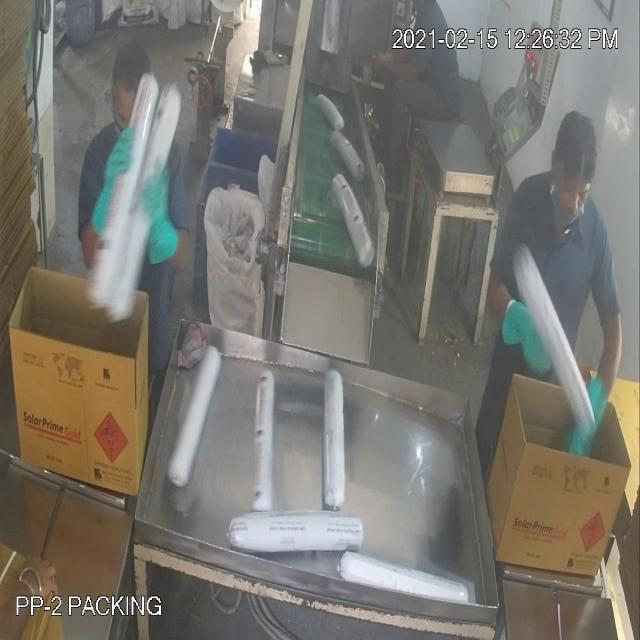No_Gloves: (41, 42, 524, 342)
